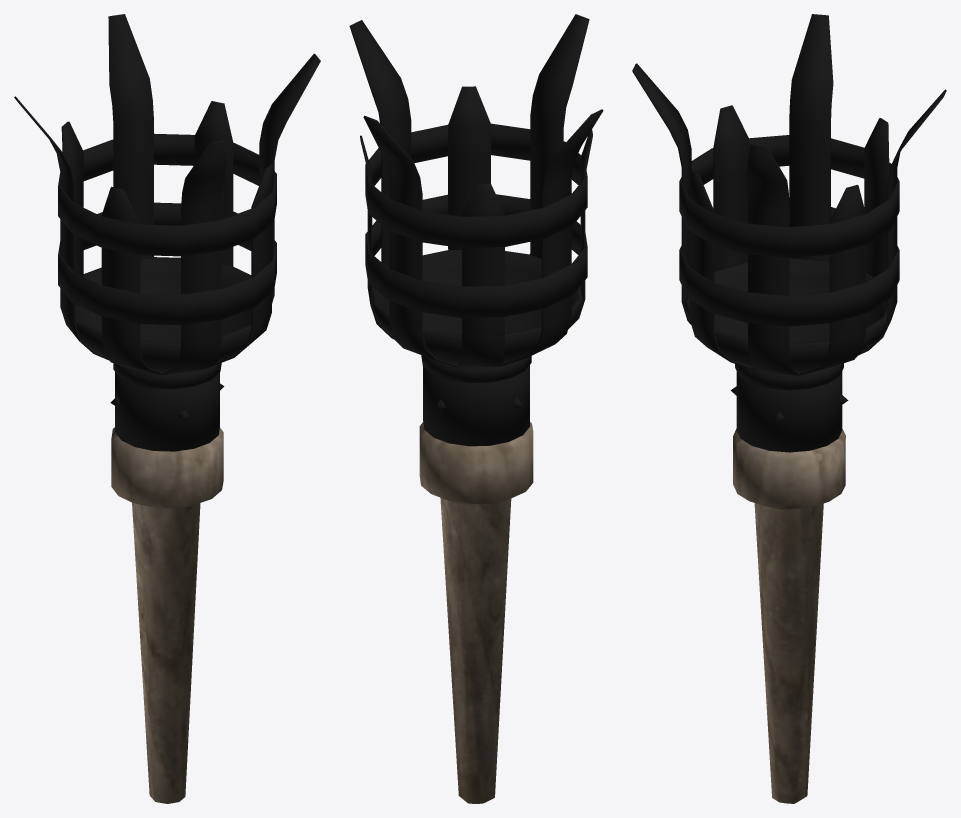
File: torch.fbx
The picture shows the model from 3 angles, left to right: view 1: azimuth 30°, elevation 25°; view 2: azimuth 150°, elevation 25°; view 3: azimuth 270°, elevation 25°; orthographic projection.
Parts seen in each view (by area): view 1: torch; view 2: torch; view 3: torch.
Boxes of the visible parts, <box> form: torch: <box>14,14,320,803</box>; torch: <box>349,14,603,803</box>; torch: <box>632,14,946,803</box>.
Size of the model in its own units: 15.7 by 39.59 by 15.7.
Materials: 1 (1 with a texture image).
